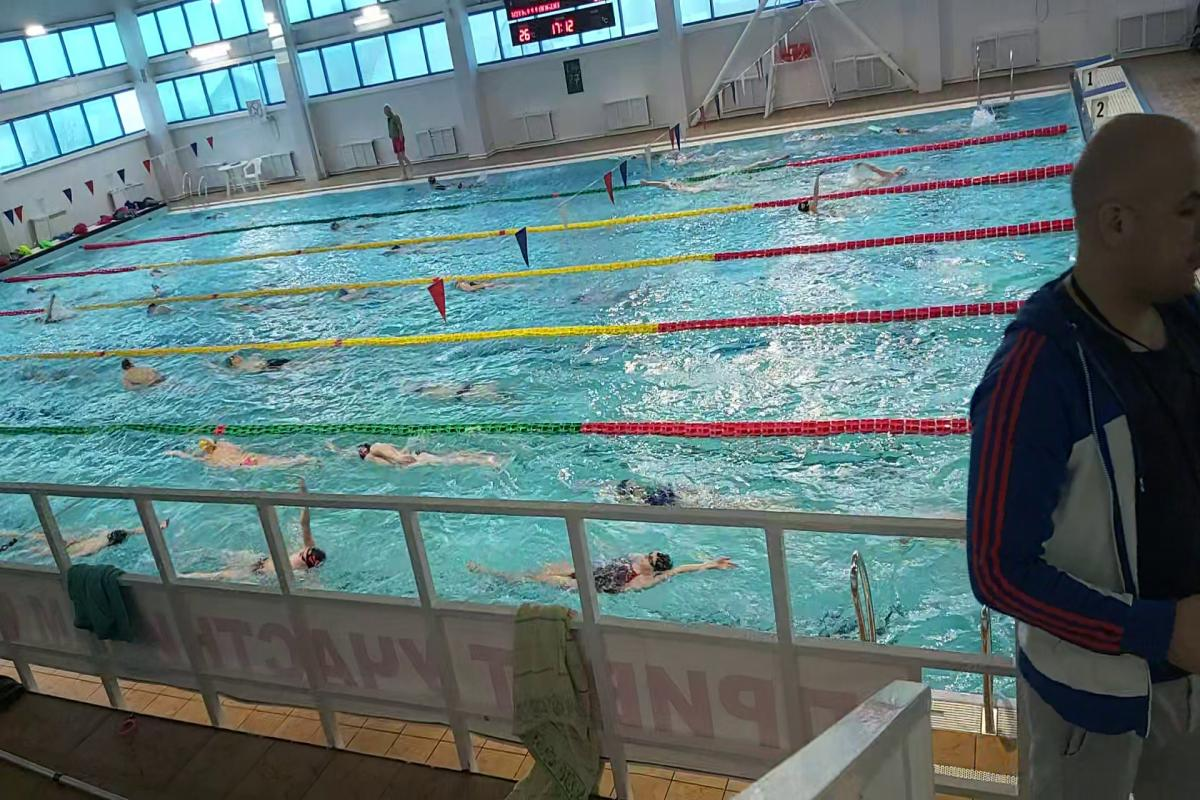swimmer: (493, 547, 737, 600), (214, 517, 348, 580), (343, 433, 509, 482), (583, 464, 773, 505), (176, 434, 326, 483), (0, 520, 147, 558), (412, 367, 524, 405), (210, 349, 316, 382), (109, 355, 178, 398), (792, 176, 841, 222), (650, 175, 730, 200), (850, 157, 912, 187), (454, 278, 521, 298), (139, 298, 185, 322)
